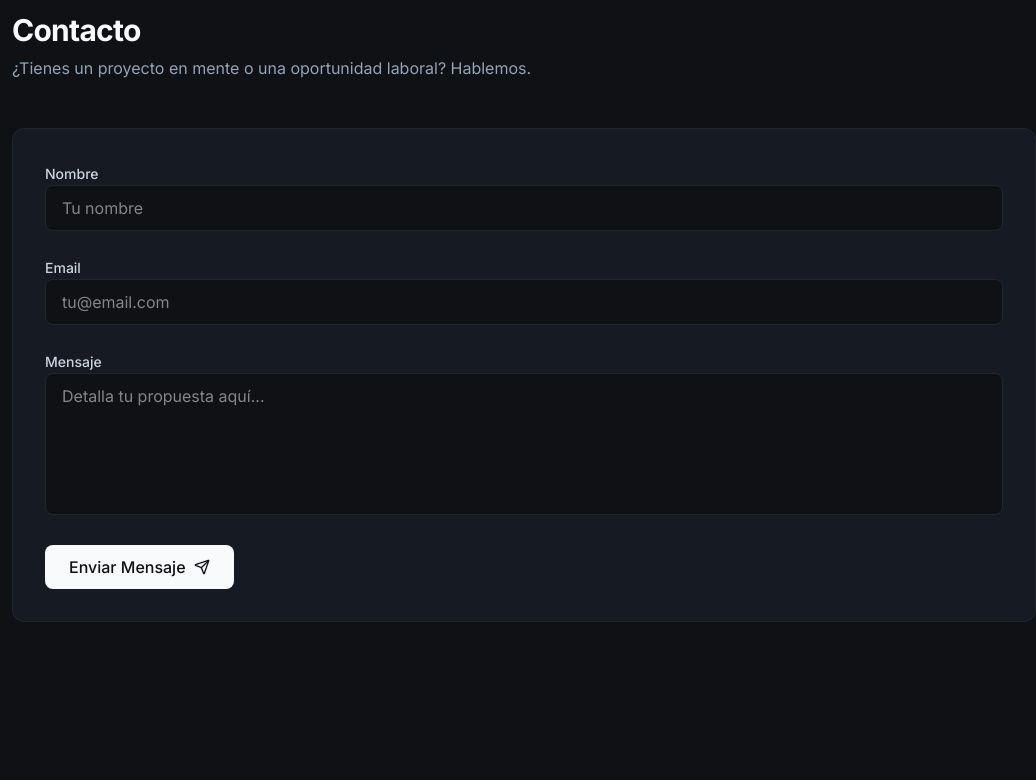
Test: Contact Page › shows success message after valid form submission
This screenshot has width=1036, height=780.
Type "John Doe" into the field labelled "Nombre" at (524, 208), box top-left (45, 185), bottom-right (1003, 231)
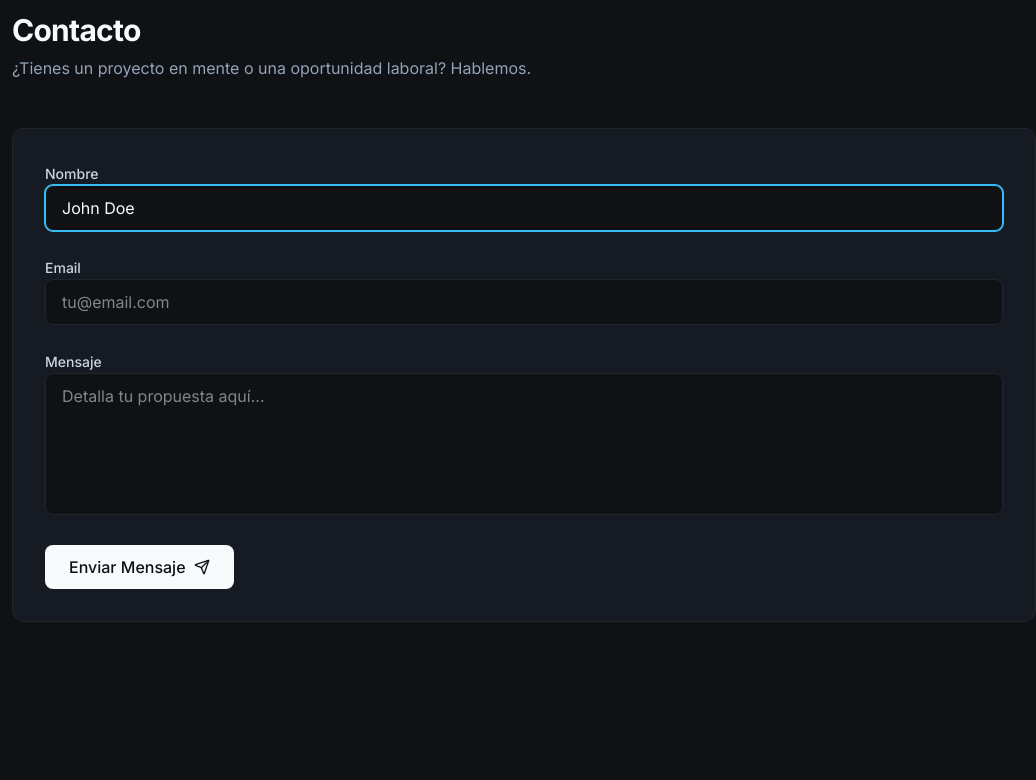
Type "john@example.com" into the field labelled "Email" at (524, 302), box top-left (45, 279), bottom-right (1003, 325)
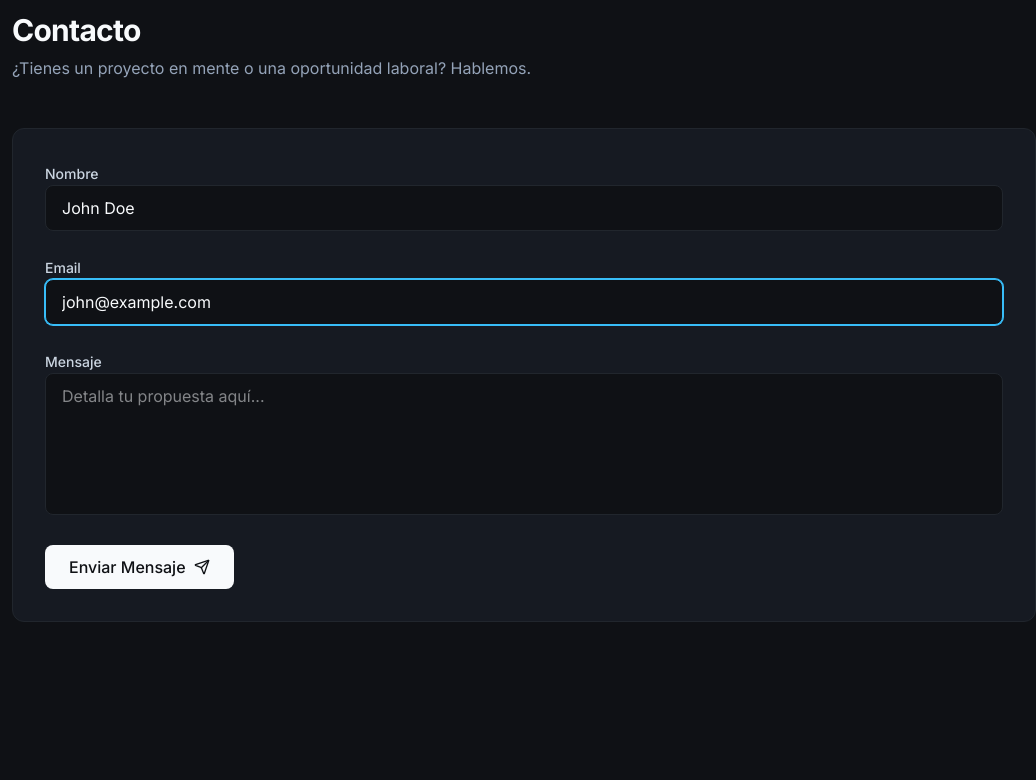
Type "This is a test message for the contact form." into the text box labelled "Mensaje" at (524, 444), box top-left (45, 373), bottom-right (1003, 515)
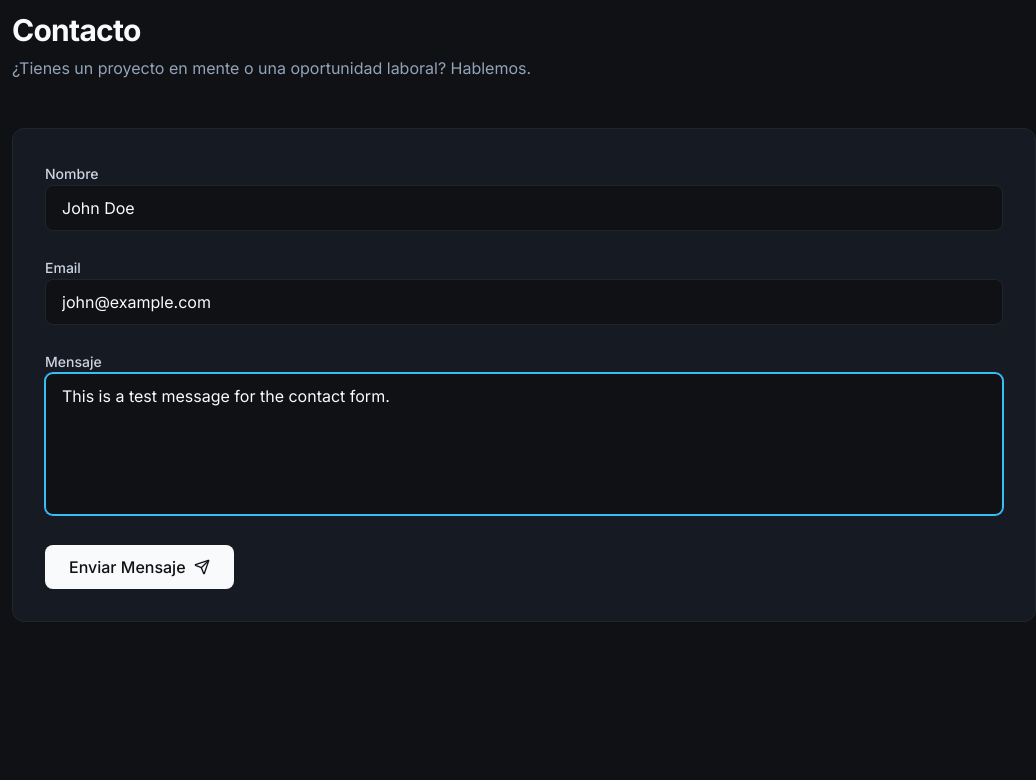
Click the button "Enviar Mensaje" at (139, 567), box top-left (45, 545), bottom-right (234, 589)
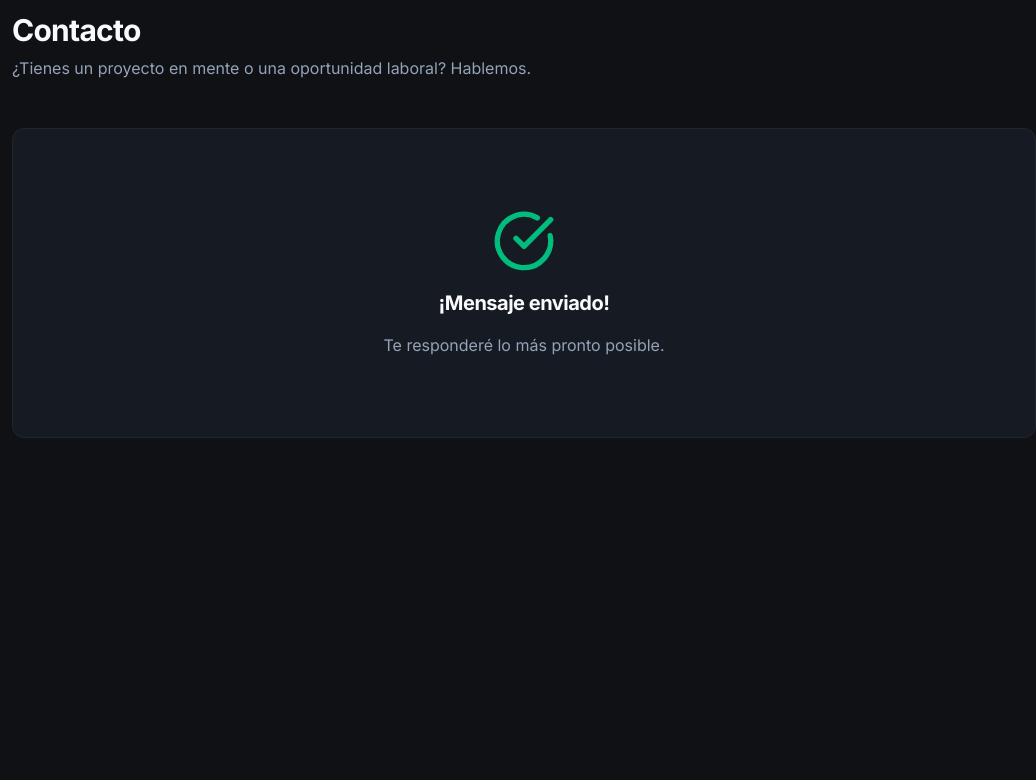
Result: the heading "¡Mensaje enviado!" is shown at top-left (439, 289), bottom-right (609, 317)
